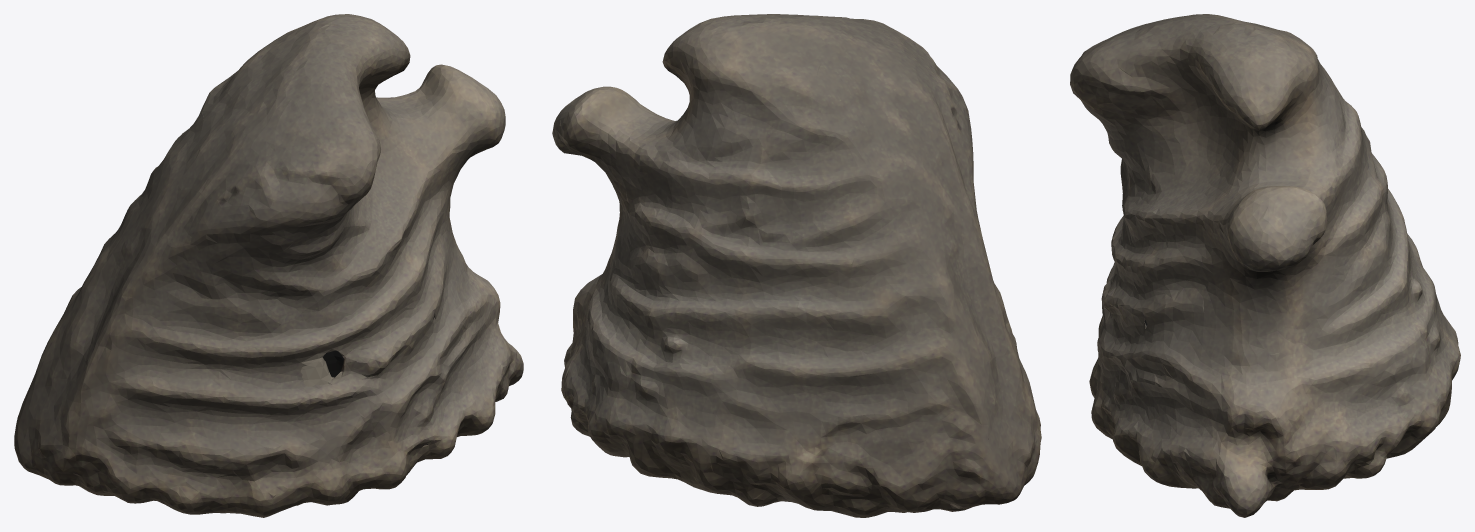
3 renders of one model, left to right at view 1: azimuth 30°, elevation 25°; view 2: azimuth 150°, elevation 25°; view 3: azimuth 270°, elevation 25°, orthographic.
Parts seen in each view (by area): view 1: world; view 2: world; view 3: world.
Boxes of the visible parts, x1,y1,x2,y2 form: world: (14,14,523,517); world: (552,14,1041,517); world: (1070,14,1460,517).
Bounding box in the file's own units: 0.0012 × 0.00102 × 0.000852.
Materials: 1 (1 with a texture image).
